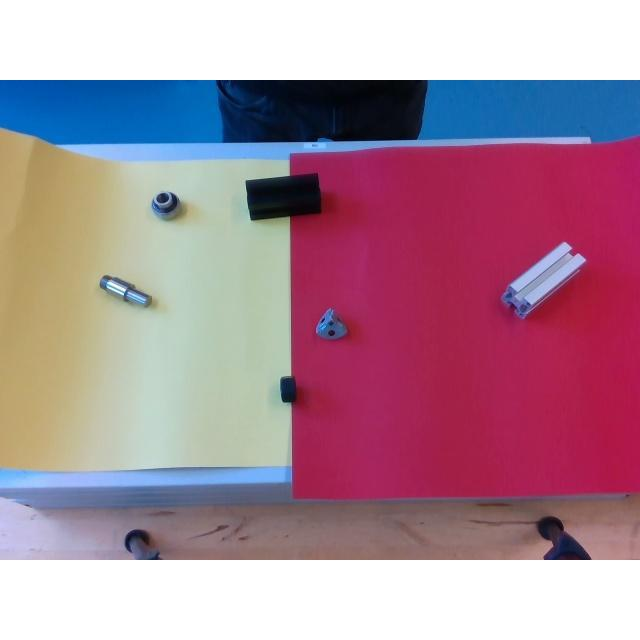Axis2: (100, 274, 150, 308)
Bearing2: (152, 191, 180, 219)
M20: (279, 373, 297, 402)
S40_40_B: (246, 173, 322, 219)
S40_40_G: (502, 242, 586, 318)
